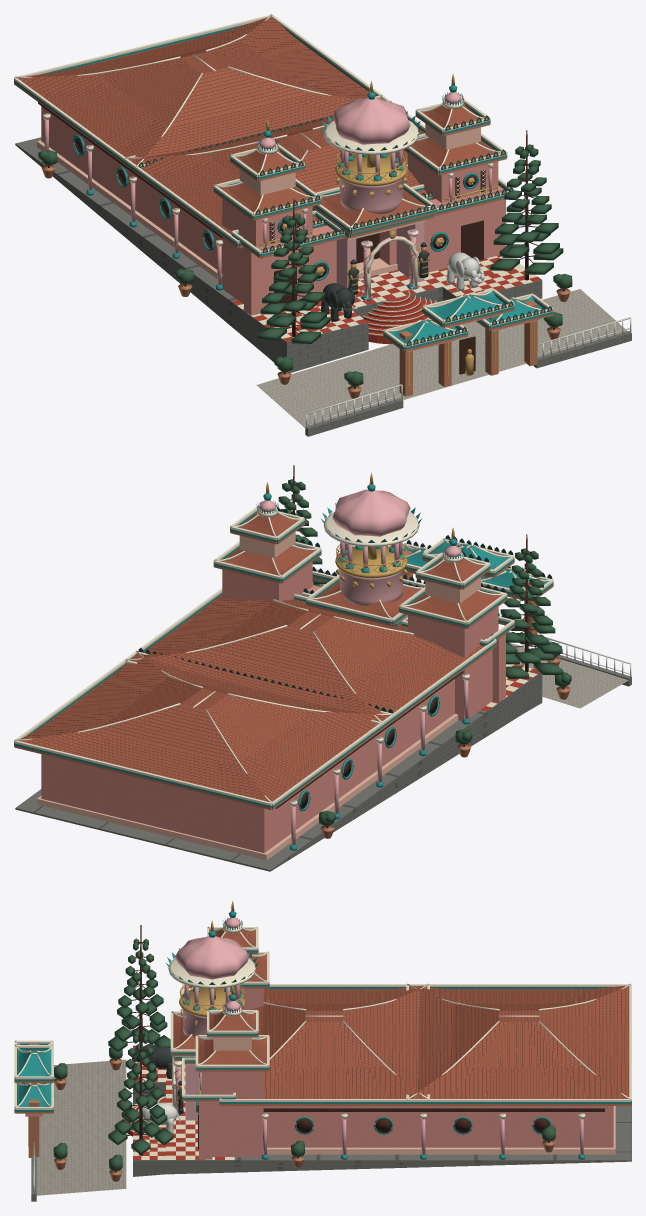
Rendered from tay-an.glb.
The picture shows the model from 3 angles, top to bottom: view 1: azimuth 30°, elevation 25°; view 2: azimuth 150°, elevation 25°; view 3: azimuth 270°, elevation 25°; orthographic projection. The views are drawn at different scales.
Visible parts, largest first — view 1: Tây An near original exterior; view 2: Tây An near original exterior; view 3: Tây An near original exterior.
Boxes of the visible parts, x1=… form: Tây An near original exterior: x1=14, y1=14, x2=631, y2=436; Tây An near original exterior: x1=14, y1=465, x2=631, y2=871; Tây An near original exterior: x1=14, y1=901, x2=631, y2=1201.
Size of the model in its own units: 26.11 by 18.79 by 46.82.
1 material, 1 textured.
